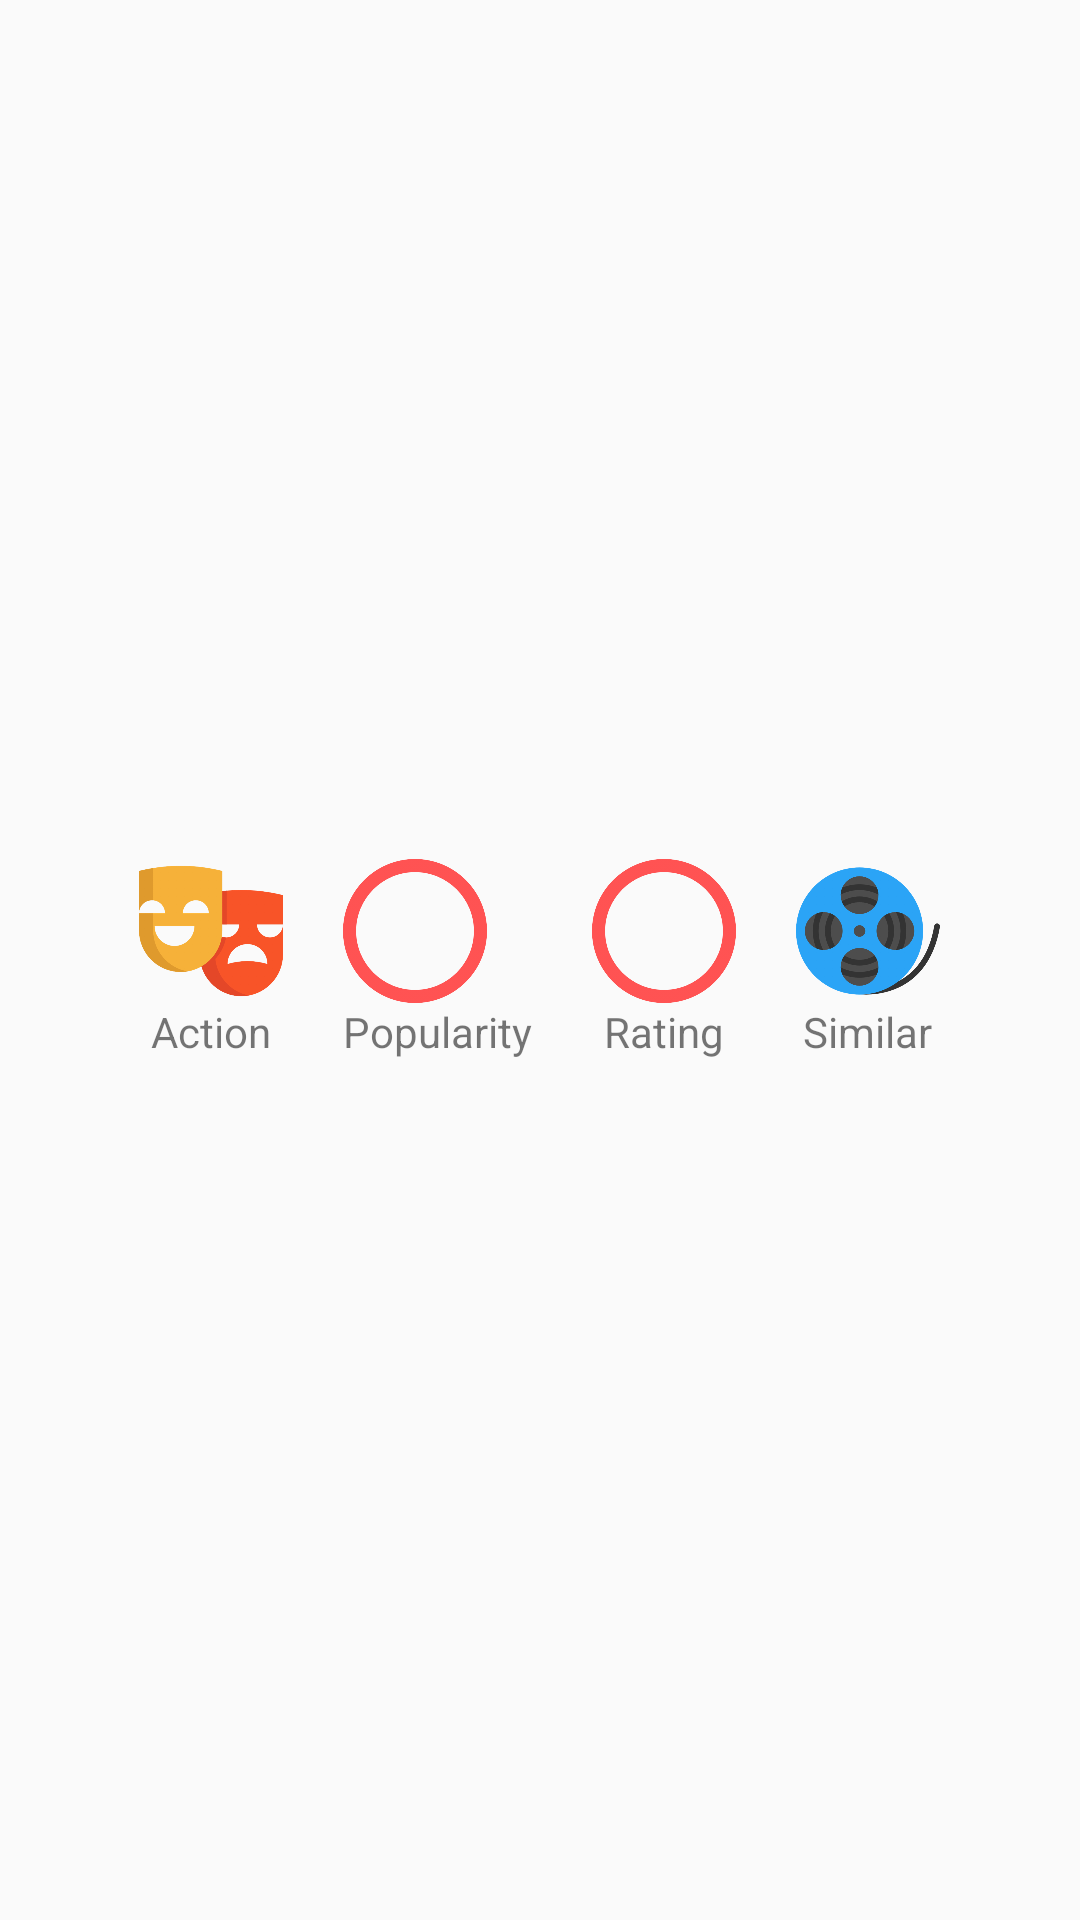

Icon bounding boxes for this 1080px x 1920px phone screenshot, format rect(x1, y1, x2, y2):
masks: rect(139, 866, 283, 996)
